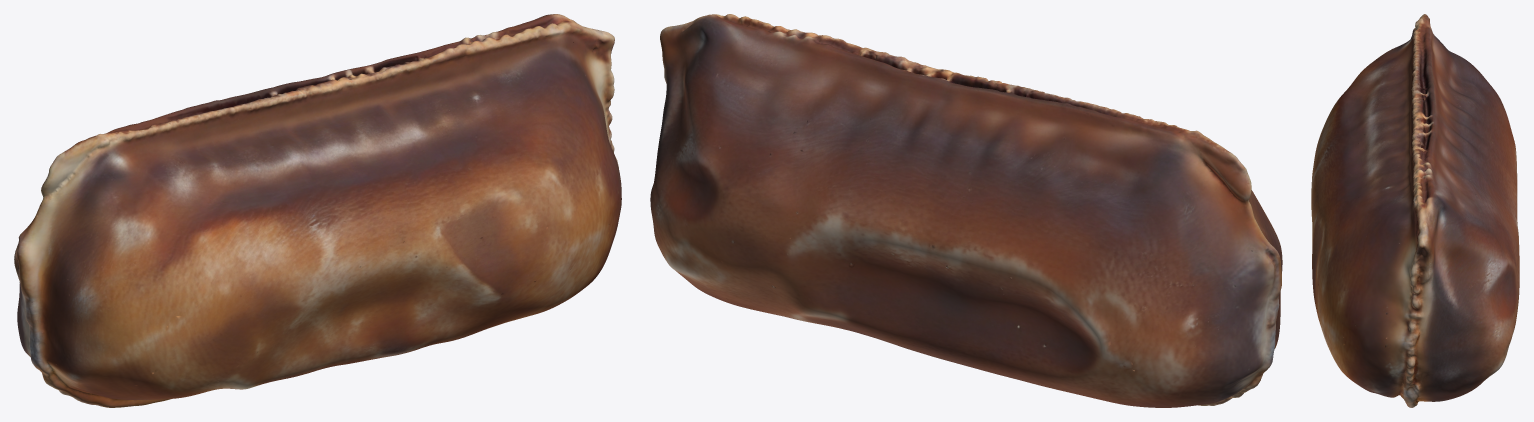
Rendered from Meshy_AI_cockroach_egg_case_o_0425065918_texture.fbx.
3 views of the same model, side by side, from view 1: azimuth 30°, elevation 25°; view 2: azimuth 150°, elevation 25°; view 3: azimuth 270°, elevation 25° (orthographic). The views are drawn at different scales.
Parts seen in each view (by area): view 1: Mesh_0; view 2: Mesh_0; view 3: Mesh_0.
Part boxes in pixels (x1,y1,x2,y2): Mesh_0: [14, 14, 621, 407]; Mesh_0: [650, 14, 1282, 407]; Mesh_0: [1311, 14, 1519, 407].
Bounding box in the file's own units: 200 × 89.84 × 74.6.
Materials: 1 (1 with a texture image).
